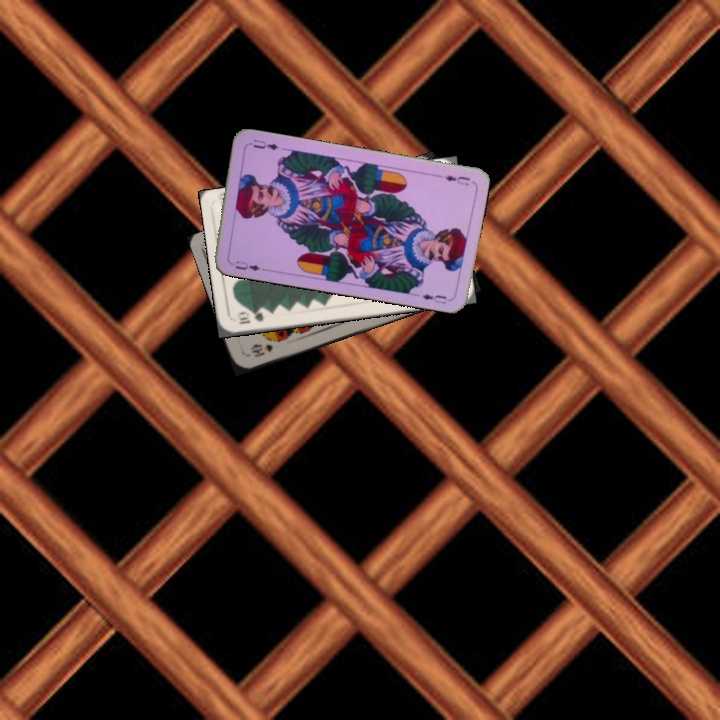EU: (231, 257, 263, 274), (441, 171, 472, 188)
G10: (233, 308, 266, 327)
S10: (243, 340, 275, 360)
